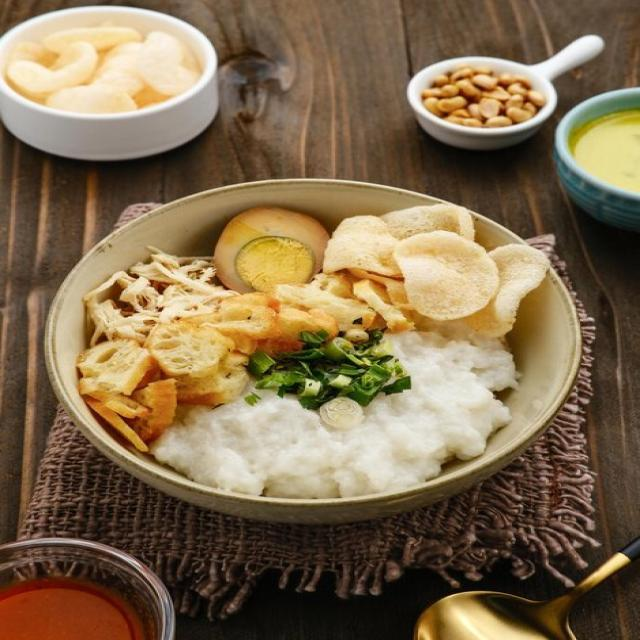bubur ayam: (84, 208, 526, 496)
mangkuk: (41, 177, 584, 525), (0, 5, 219, 163), (406, 54, 557, 150), (552, 87, 639, 233)
telur rebus: (214, 202, 334, 297)
